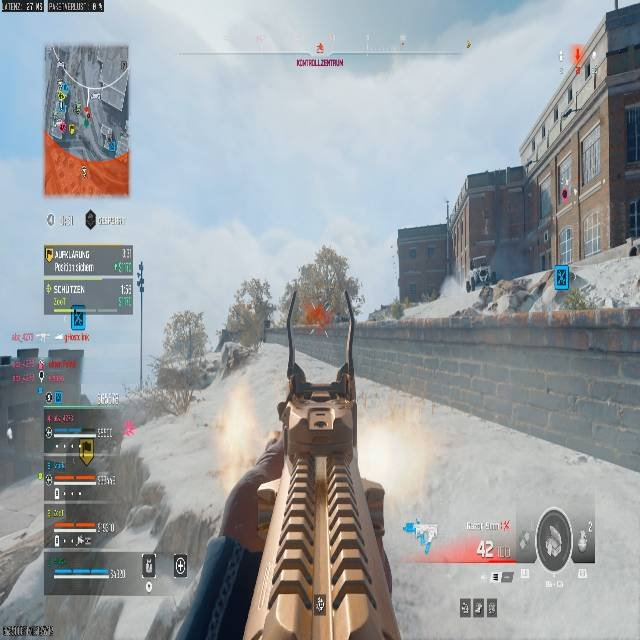player: (463, 265, 501, 306)
